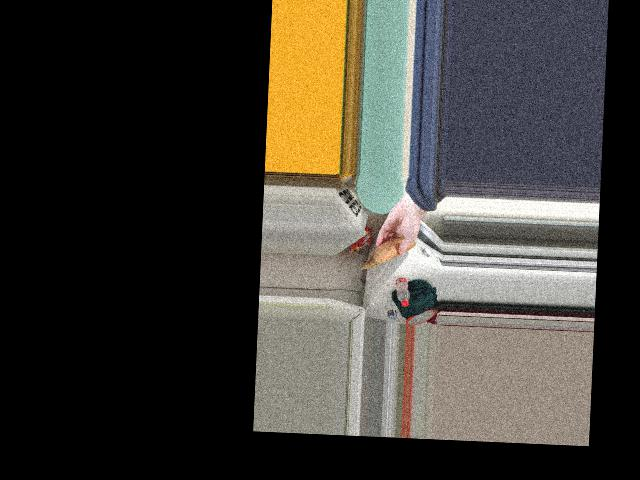sweet_potato: (376, 232, 410, 263)
